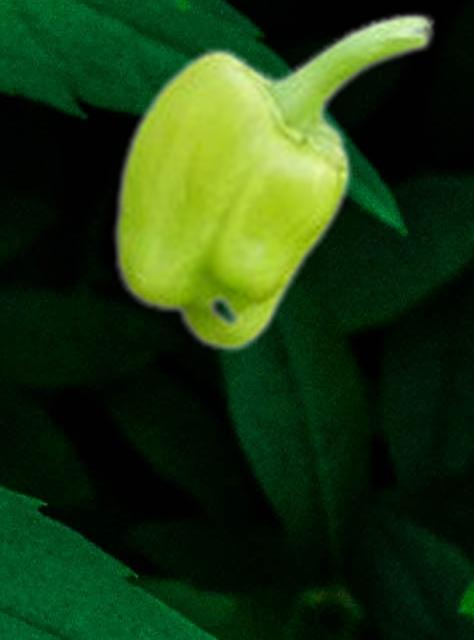bell_pepper: (111, 10, 436, 352)
